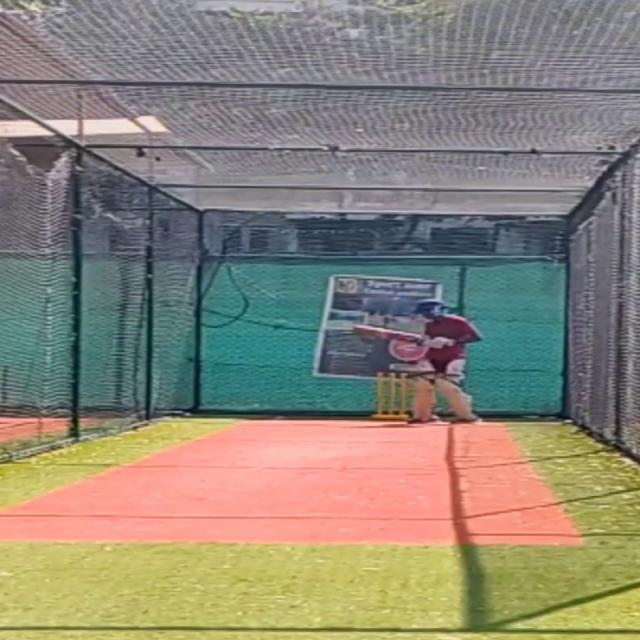stump: (373, 371, 408, 420)
